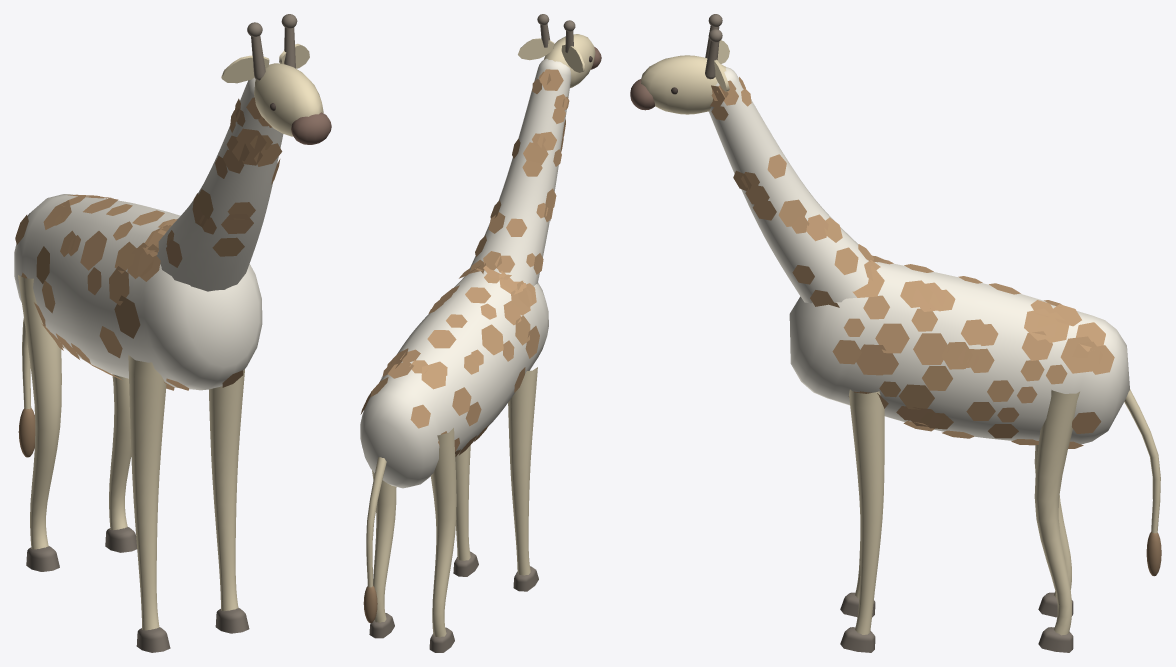
File: giraffe.glb
3 views of the same model, side by side, from view 1: azimuth 30°, elevation 25°; view 2: azimuth 150°, elevation 25°; view 3: azimuth 270°, elevation 25° (orthographic). The views are drawn at different scales.
Parts seen in each view (by area): view 1: reticulated-giraffe; view 2: reticulated-giraffe; view 3: reticulated-giraffe.
Boxes of the visible parts, x1,y1,x2,y2 form: reticulated-giraffe: [14, 14, 331, 652]; reticulated-giraffe: [360, 14, 601, 652]; reticulated-giraffe: [630, 14, 1161, 652].
Bounding box in the file's own units: 1.01 × 5.27 × 4.16.
